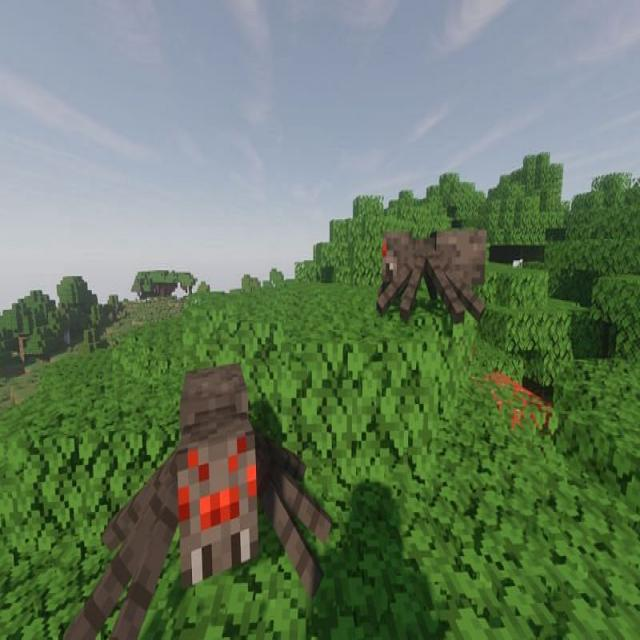Spider: (65, 361, 333, 637), (378, 225, 488, 320)
